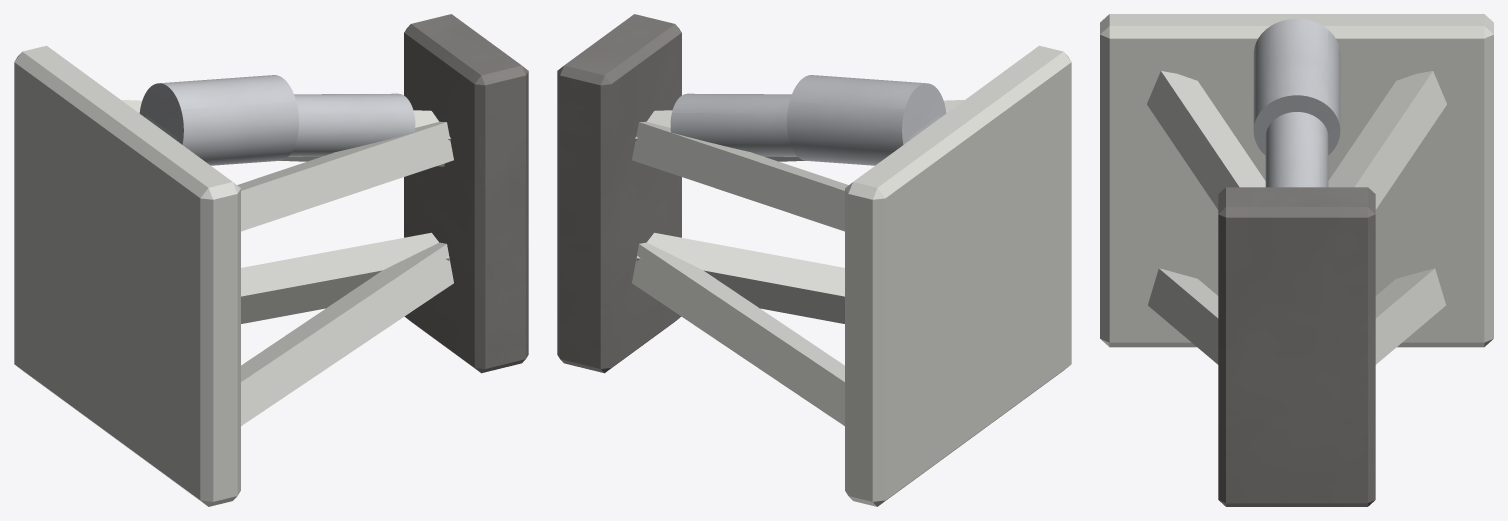
The model's file is ax_rover_18_active_suspension.glb.
The picture shows the model from 3 angles, left to right: view 1: azimuth 30°, elevation 25°; view 2: azimuth 150°, elevation 25°; view 3: azimuth 270°, elevation 25°; orthographic projection.
Visible parts, largest first — view 1: mount_bracket, upright, arm_wishbones, damper; view 2: mount_bracket, upright, arm_wishbones, damper; view 3: mount_bracket, upright, arm_wishbones, damper.
Part boxes in pixels (x1=…): mount_bracket: x1=14, y1=45, x2=240, y2=506; upright: x1=404, y1=14, x2=528, y2=373; arm_wishbones: x1=121, y1=100, x2=453, y2=425; damper: x1=139, y1=75, x2=415, y2=165; mount_bracket: x1=845, y1=45, x2=1071, y2=506; upright: x1=557, y1=14, x2=681, y2=373; arm_wishbones: x1=632, y1=100, x2=964, y2=425; damper: x1=670, y1=75, x2=946, y2=165; mount_bracket: x1=1100, y1=14, x2=1493, y2=347; upright: x1=1218, y1=187, x2=1375, y2=506; arm_wishbones: x1=1147, y1=71, x2=1446, y2=364; damper: x1=1253, y1=18, x2=1340, y2=187.
Size of the model in its own units: 0.57 by 0.4793 by 0.5.
Materials: 3 (2 with a texture image).
